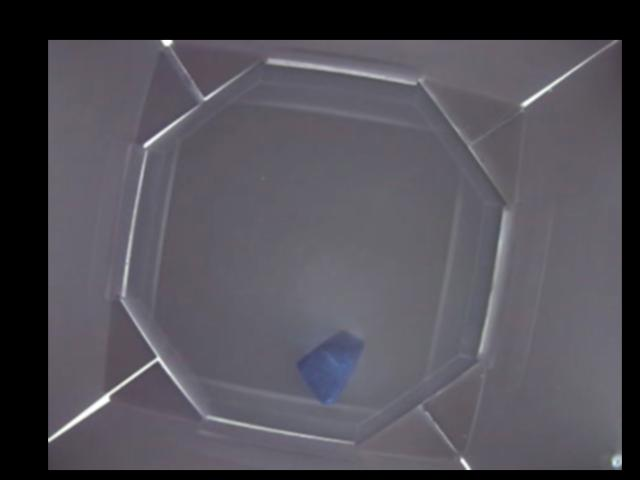Mooli: (299, 329, 366, 409)
